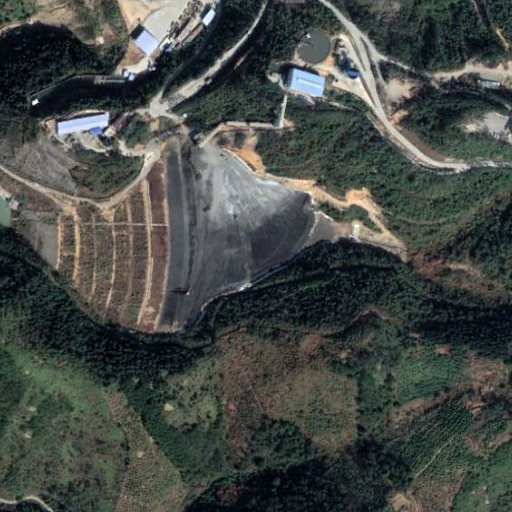tp: (15, 142, 348, 337)
